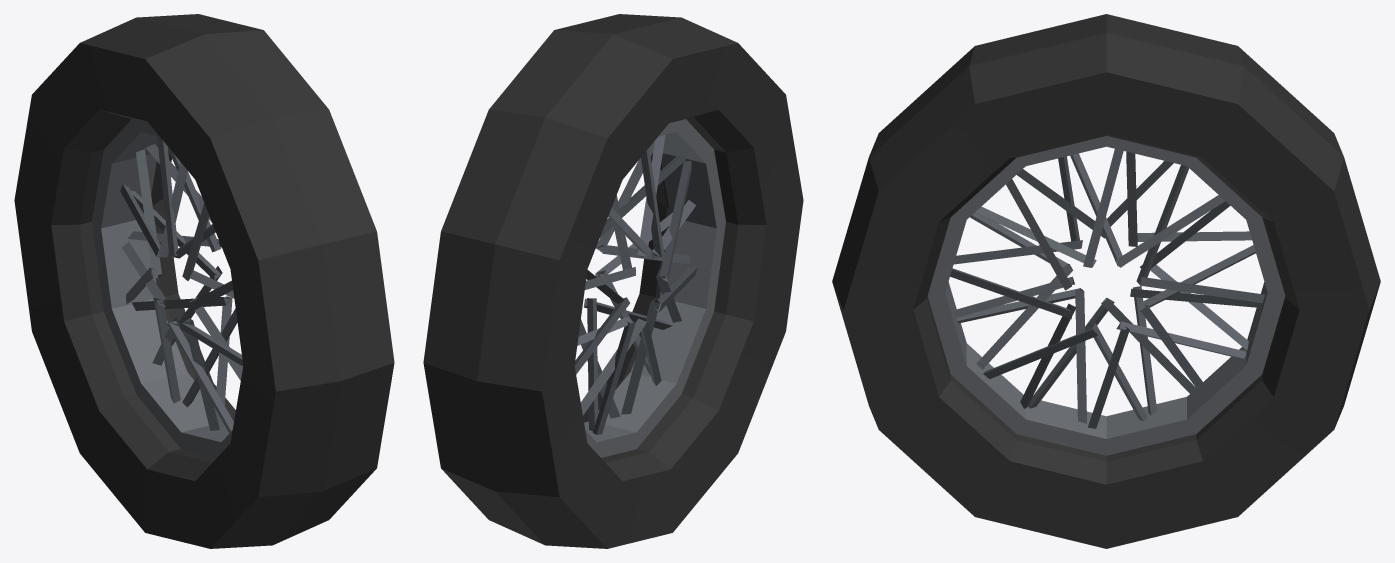
The model's file is SM_Veh_Motorbike_Apoco_Rear_Wheel_01.obj.
The picture shows the model from 3 angles, left to right: view 1: azimuth 30°, elevation 25°; view 2: azimuth 150°, elevation 25°; view 3: azimuth 270°, elevation 25°; orthographic projection.
Visible parts, largest first — view 1: SM_Veh_Motorbike_Apoco_Rear_Wheel_01_0; view 2: SM_Veh_Motorbike_Apoco_Rear_Wheel_01_0; view 3: SM_Veh_Motorbike_Apoco_Rear_Wheel_01_0.
Boxes of the visible parts, box(x1,y1,x2,y2) form: SM_Veh_Motorbike_Apoco_Rear_Wheel_01_0: box(14, 14, 394, 548); SM_Veh_Motorbike_Apoco_Rear_Wheel_01_0: box(423, 14, 803, 548); SM_Veh_Motorbike_Apoco_Rear_Wheel_01_0: box(832, 14, 1380, 548).
Bounding box in the file's own units: 0.2007 × 0.7986 × 0.7986.
Materials: 1 (1 with a texture image).
